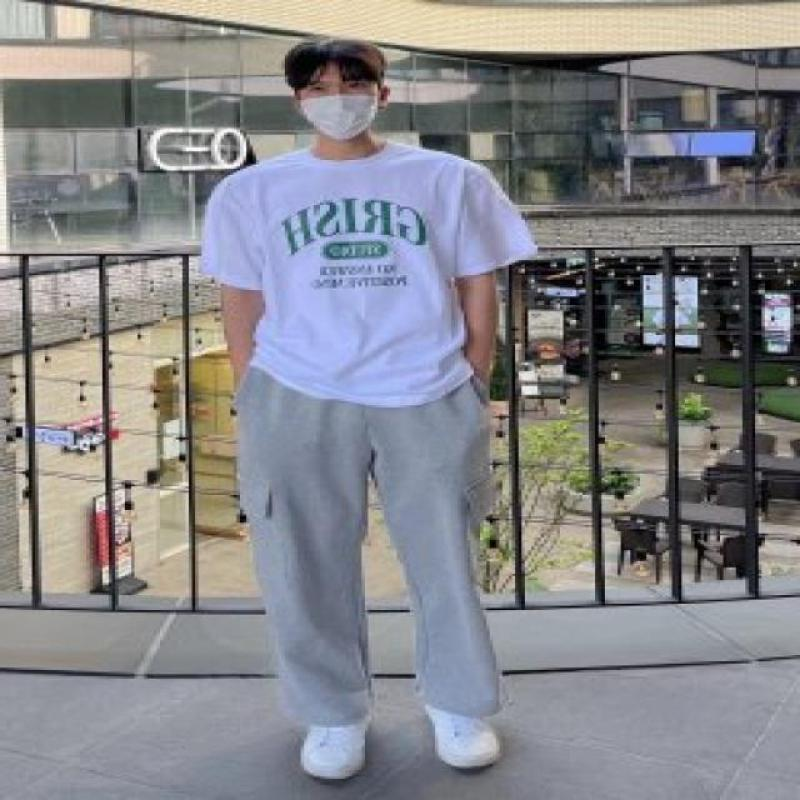short sleeve shirt: (198, 135, 541, 411)
trousers: (234, 367, 507, 723)
